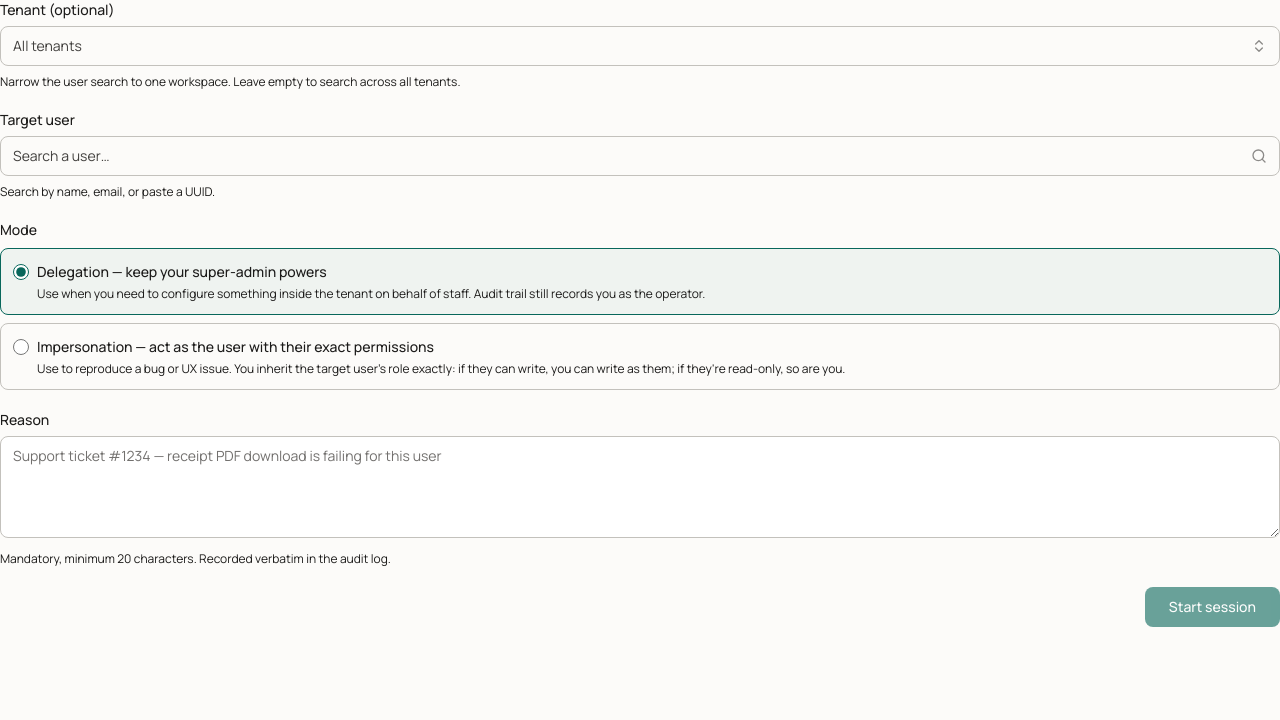
Test: StartImpersonationForm — step-up 401 handling (issue #250) › step_up_required=false (lockout) → no redirect, lockout error rendered
Click the button "Search a user…" at (61, 156), box left=0, top=136, right=1279, bottom=176
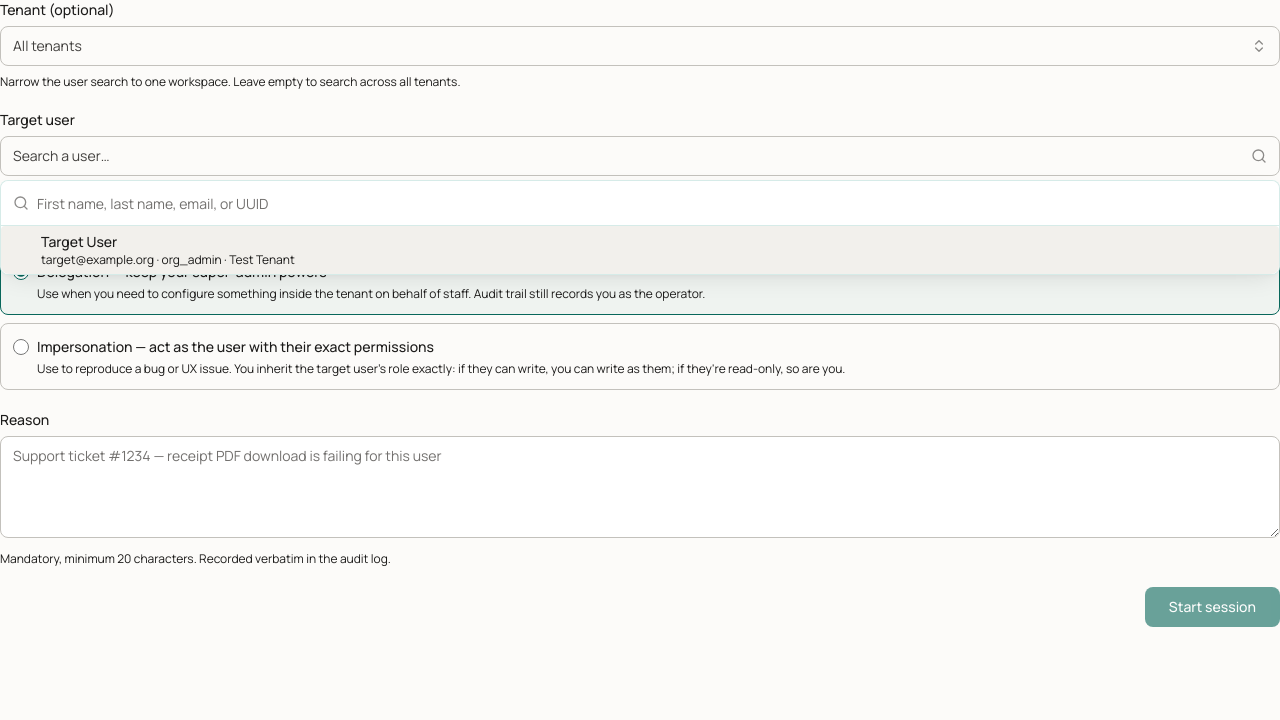
Click the text "Target User" at (79, 242), box left=41, top=232, right=117, bottom=251
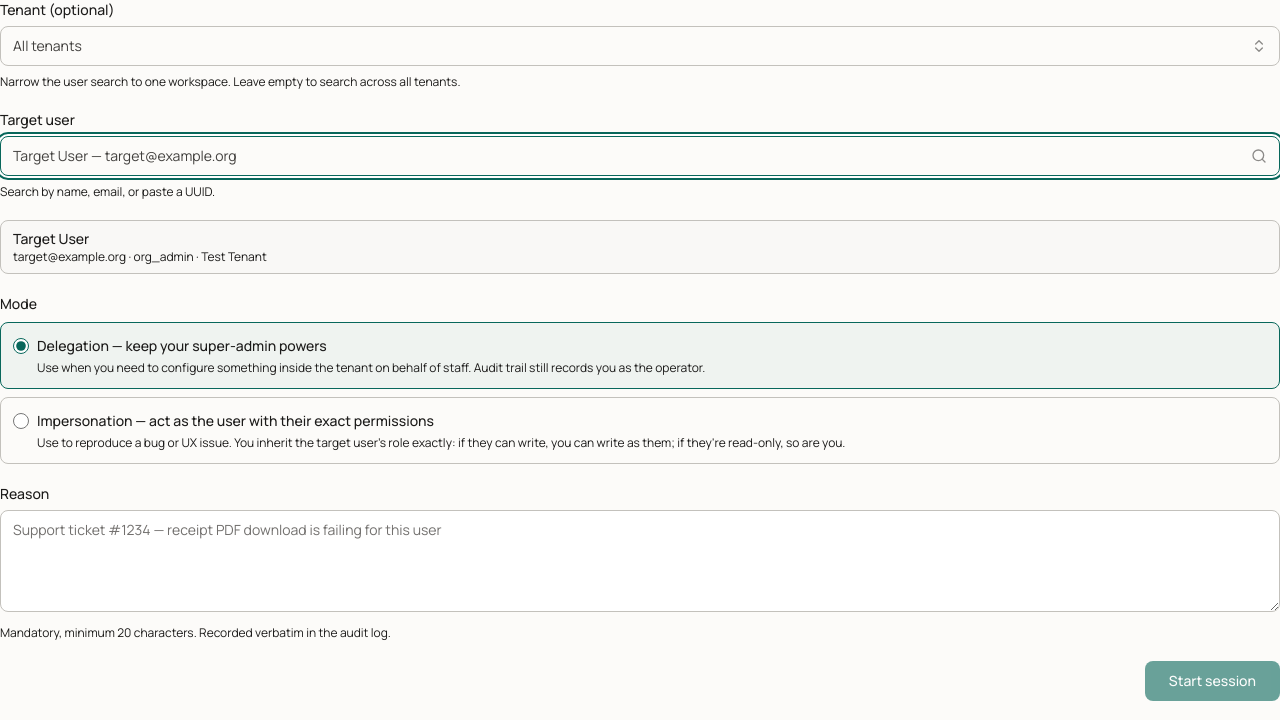
Type "Reproducing a bug in the donations export — ticket #5678" into the text box labelled "Reason" at (640, 561), box left=0, top=510, right=1279, bottom=612
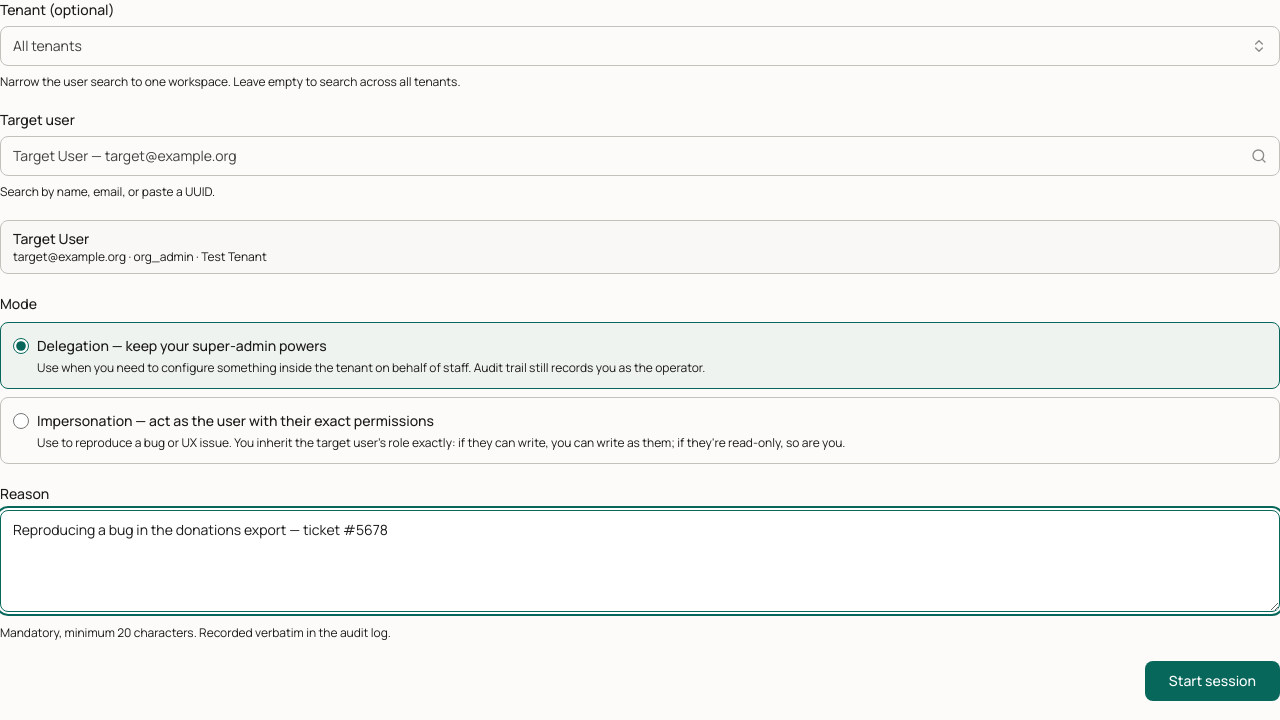
Click the button "Start session" at (1212, 681), box left=1145, top=661, right=1279, bottom=701
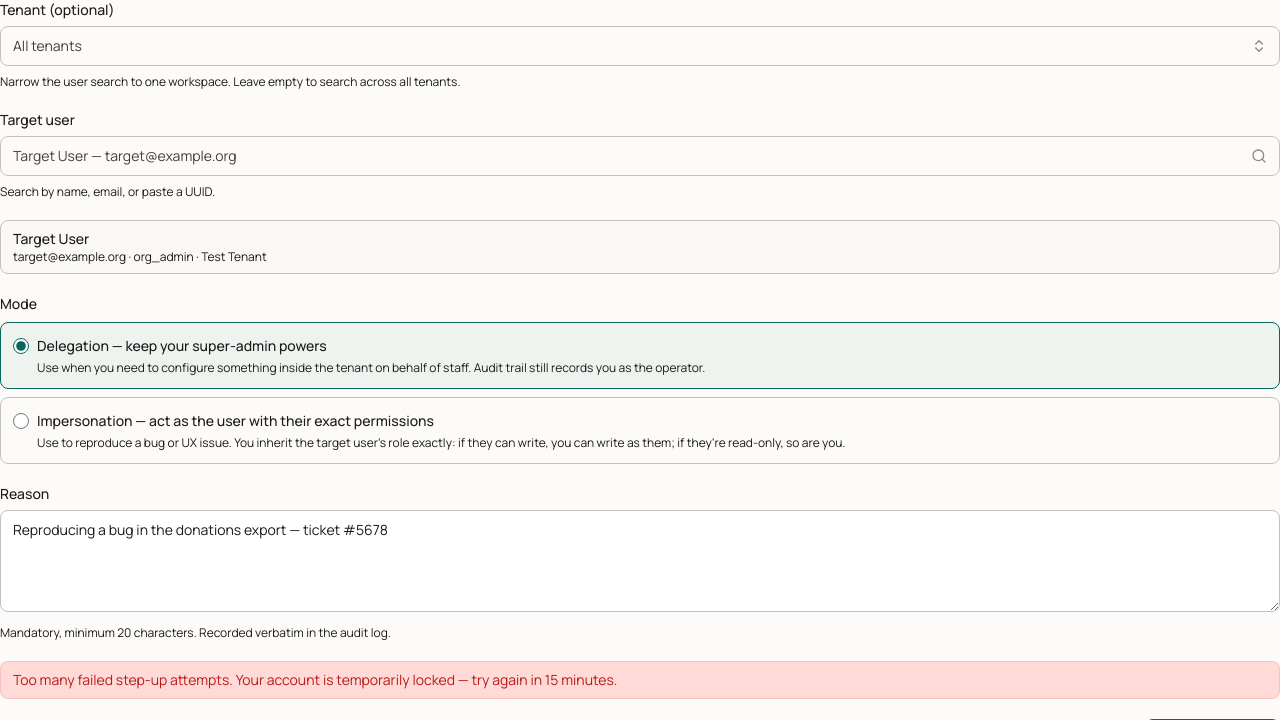
Expected: the message shows "temporarily locked", left=13, top=670, right=617, bottom=689
